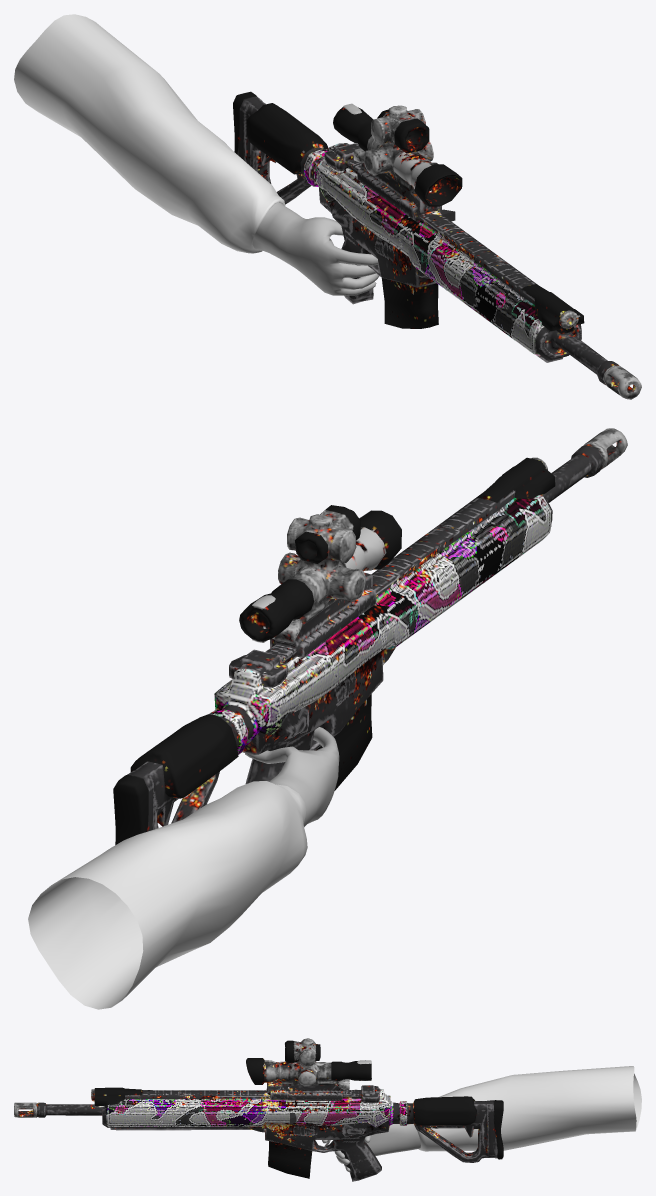
The model's file is WeaponAnim.fbx.
3 renders of one model, top to bottom at view 1: azimuth 30°, elevation 25°; view 2: azimuth 150°, elevation 25°; view 3: azimuth 270°, elevation 25°, orthographic. The views are drawn at different scales.
Visible parts, largest first — view 1: polySurface1.006; view 2: polySurface1.006; view 3: polySurface1.006.
Boxes of the visible parts, x1=… form: polySurface1.006: x1=14, y1=14, x2=641, y2=399; polySurface1.006: x1=28, y1=428, x2=627, y2=1009; polySurface1.006: x1=14, y1=1038, x2=641, y2=1181.
Bounding box in the file's own units: 28.51 × 36.55 × 151.
